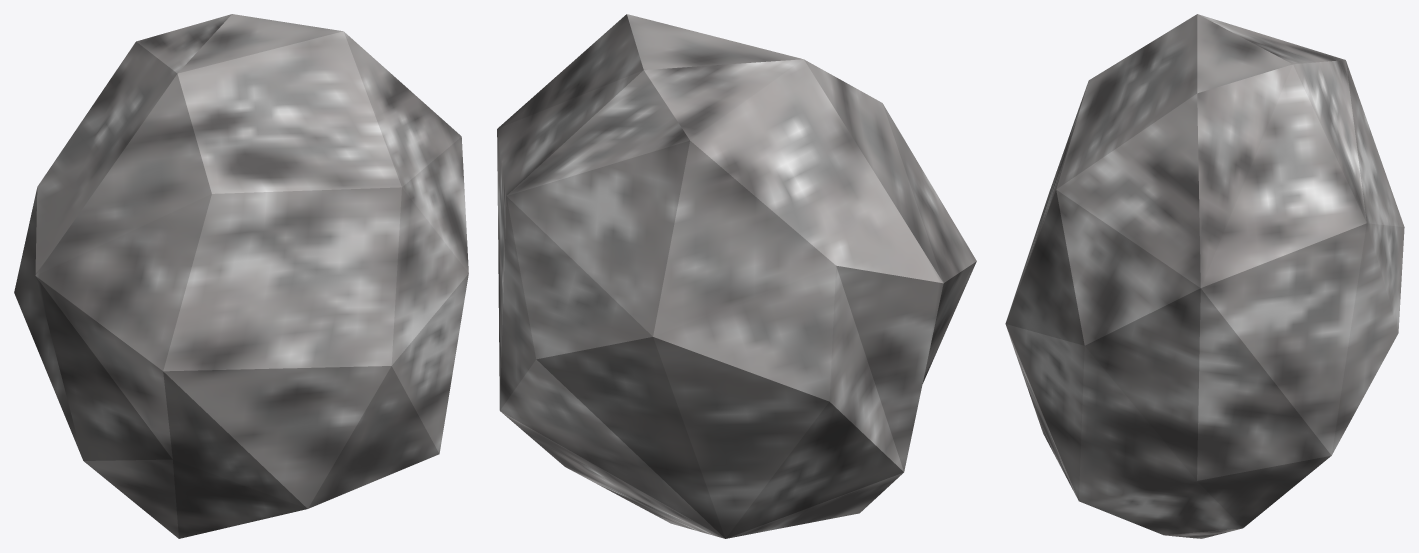
Rendered from giant_rock_v3.glb.
3 views of the same model, side by side, from view 1: azimuth 30°, elevation 25°; view 2: azimuth 150°, elevation 25°; view 3: azimuth 270°, elevation 25° (orthographic). The views are drawn at different scales.
Visible parts, largest first — view 1: Sphere.011; view 2: Sphere.011; view 3: Sphere.011.
Boxes of the visible parts, bbox=[...] form: Sphere.011: bbox=[14, 14, 468, 538]; Sphere.011: bbox=[497, 14, 976, 538]; Sphere.011: bbox=[1005, 14, 1404, 538].
Size of the model in its own units: 16.62 by 17.5 by 13.55.
1 material, 1 textured.
